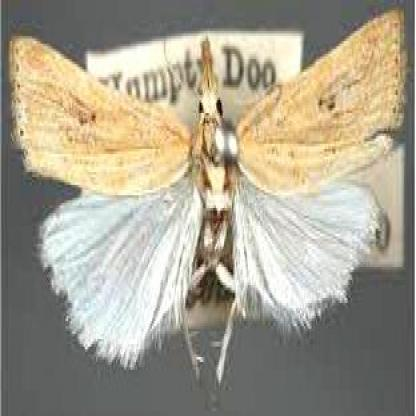stem-borer: (6, 6, 406, 386)
